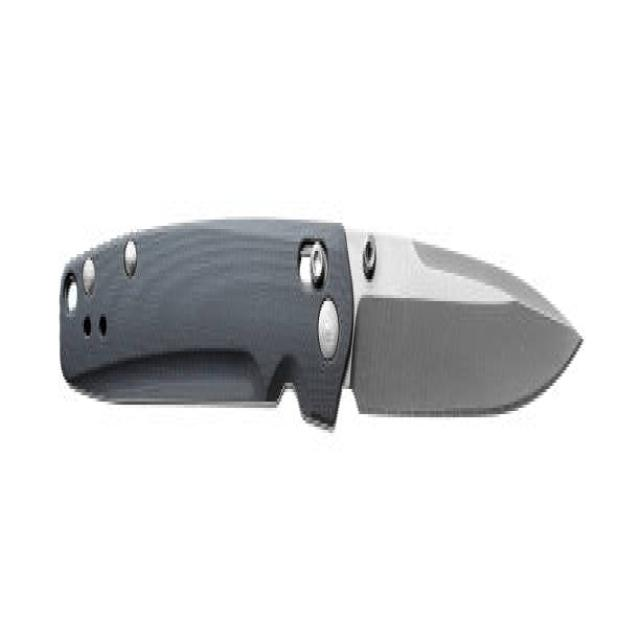knife: (53, 171, 587, 514)
